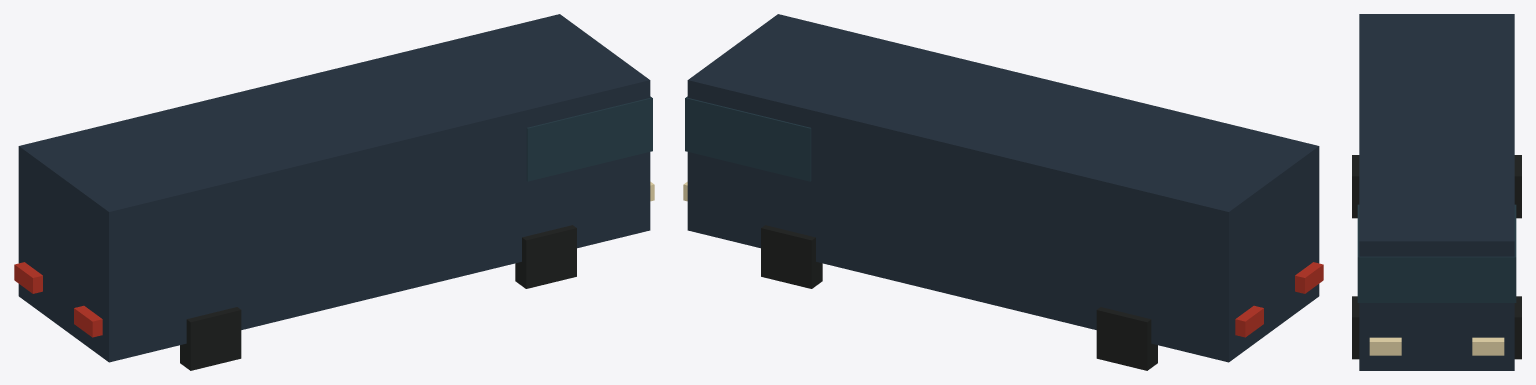
Rendered from traffic-van-1.glb.
3 renders of one model, left to right at view 1: azimuth 30°, elevation 25°; view 2: azimuth 150°, elevation 25°; view 3: azimuth 270°, elevation 25°, orthographic. The views are drawn at different scales.
Bounding box in the file's own units: 6.65 × 1.98 × 2.02.
